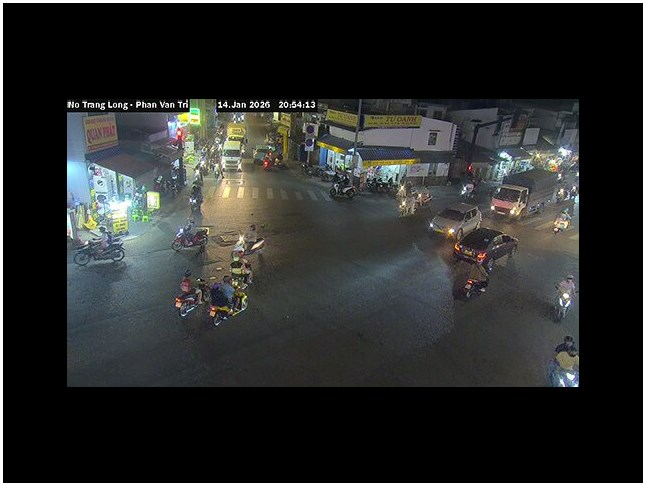car: (425, 205, 482, 241)
motorbike: (207, 274, 248, 326), (74, 230, 126, 267), (171, 221, 208, 253), (552, 212, 570, 234)
